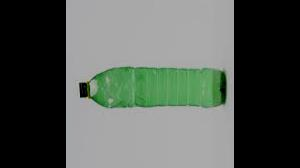Plastic: (72, 64, 228, 110)
